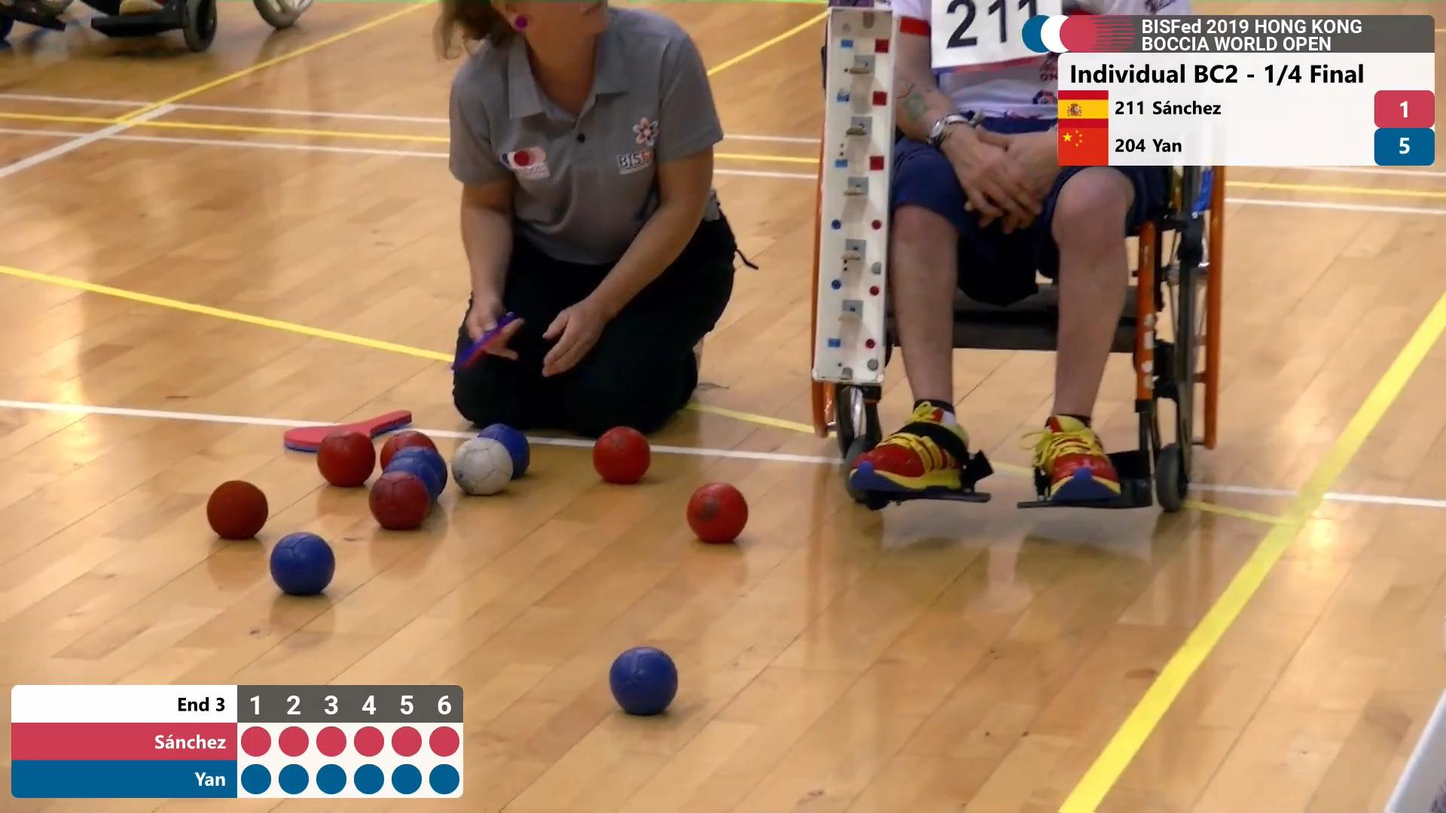blue_ball: (607, 645, 681, 718), (268, 527, 338, 601)
red_ball: (204, 474, 272, 545), (688, 478, 752, 549), (314, 424, 376, 489), (592, 427, 655, 487), (366, 471, 431, 529)
white_ball: (453, 436, 520, 503)
